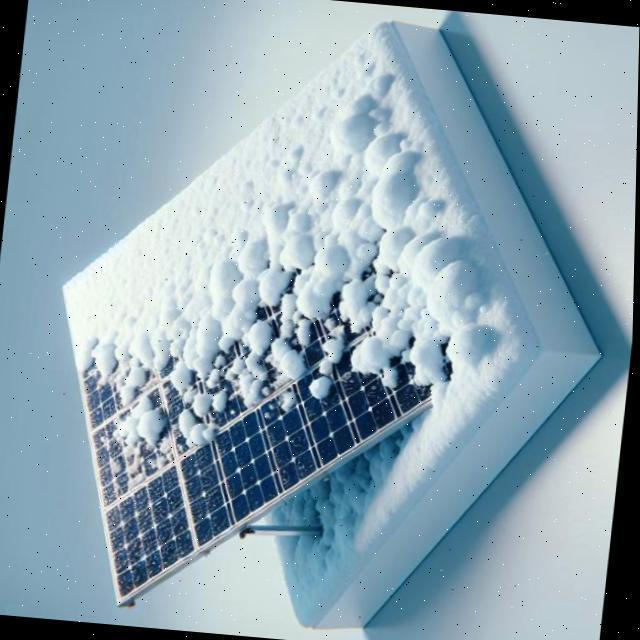Anomaly Solar Panel: (0, 20, 566, 598)
Snow: (1, 19, 528, 536)
